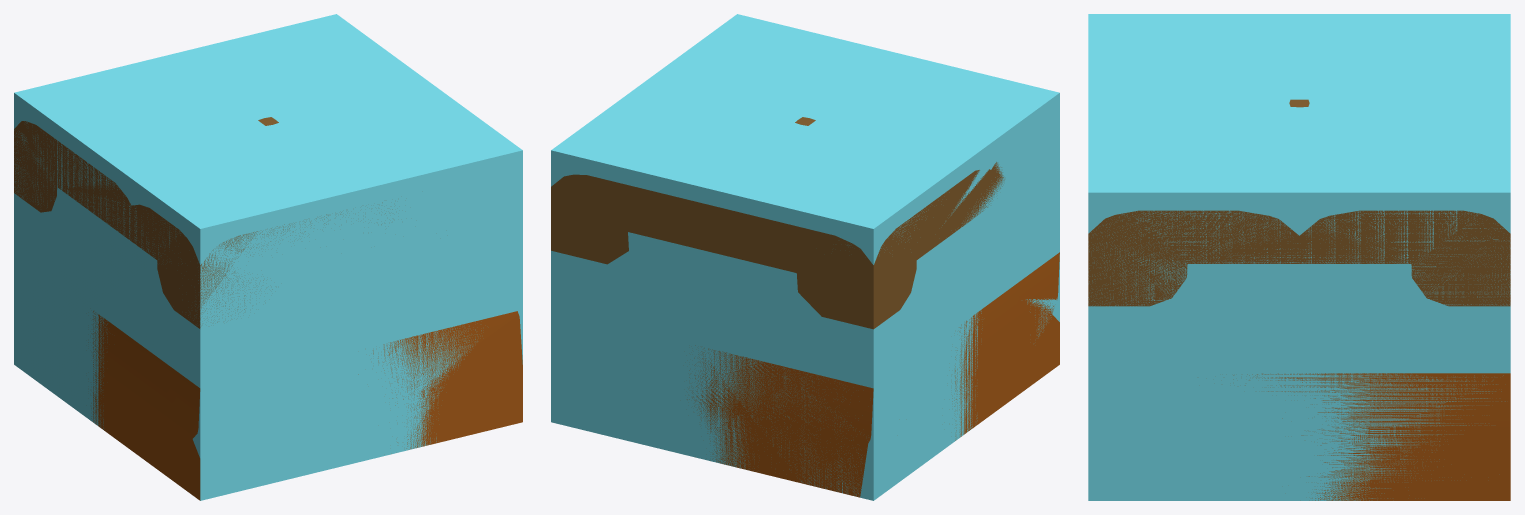
The model's file is PBOX33_Mud_02.FBX.
3 renders of one model, left to right at view 1: azimuth 30°, elevation 25°; view 2: azimuth 150°, elevation 25°; view 3: azimuth 270°, elevation 25°, orthographic. The views are drawn at different scales.
Visible parts, largest first — view 1: PBOX33_Mud_02, PBOX33_SUB_TAB_MUD_01, PBOX33_SUB_Mud_02; view 2: PBOX33_Mud_02, PBOX33_SUB_TAB_MUD_01, PBOX33_SUB_Mud_02; view 3: PBOX33_Mud_02, PBOX33_SUB_Mud_02, PBOX33_SUB_TAB_MUD_01.
Part boxes in pixels (x1,y1,x2,y2): PBOX33_Mud_02: (14,14,522,500); PBOX33_SUB_TAB_MUD_01: (88,311,522,500); PBOX33_SUB_Mud_02: (14,117,392,328); PBOX33_Mud_02: (551,14,1059,500); PBOX33_SUB_TAB_MUD_01: (687,252,1059,497); PBOX33_SUB_Mud_02: (551,117,1004,329); PBOX33_Mud_02: (1088,14,1510,500); PBOX33_SUB_Mud_02: (1088,99,1510,306); PBOX33_SUB_TAB_MUD_01: (1233,373,1510,500).
Size of the model in its own units: 18 by 14.52 by 18.
